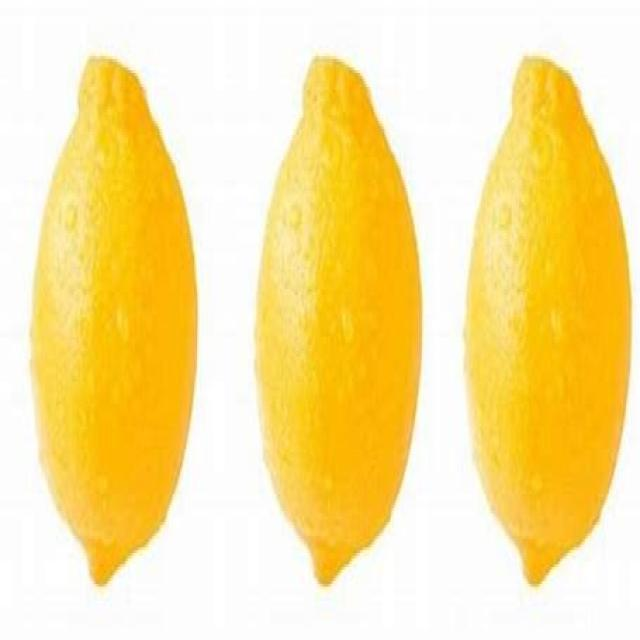lemon: (28, 52, 232, 589), (465, 57, 630, 593), (256, 57, 421, 588)
